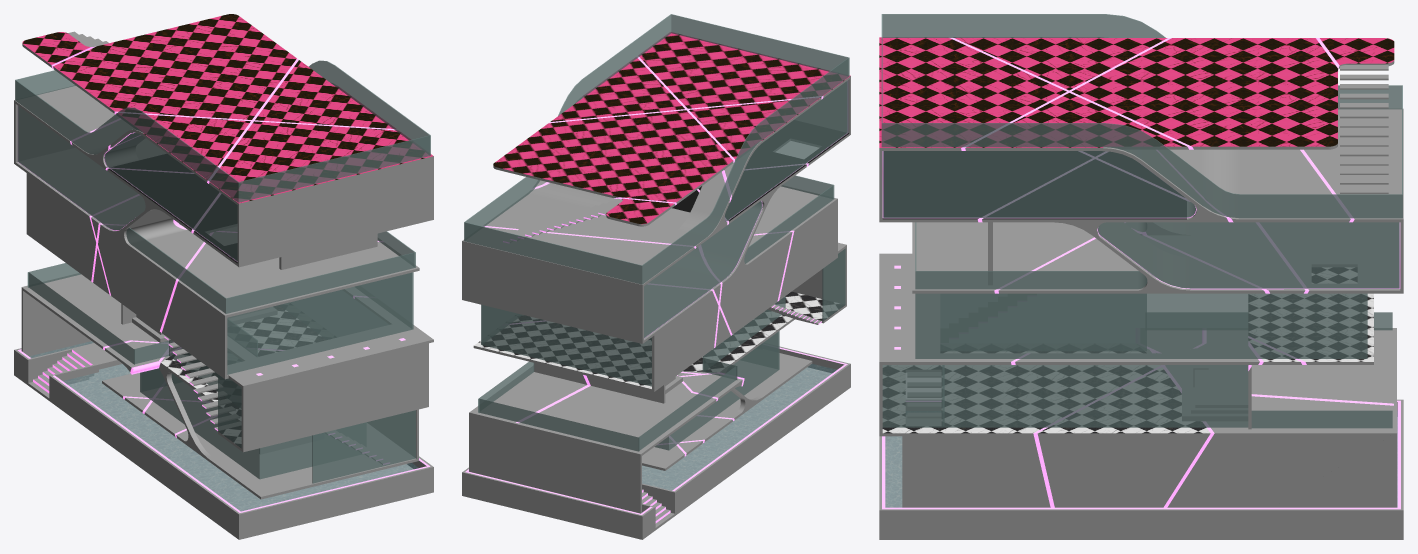
Rendered from building.glb.
3 views of the same model, side by side, from view 1: azimuth 30°, elevation 25°; view 2: azimuth 150°, elevation 25°; view 3: azimuth 270°, elevation 25° (orthographic). The views are drawn at different scales.
Parts seen in each view (by area): view 1: building, Cube.027; view 2: building, Cube.027; view 3: building, Cube.027.
Part boxes in pixels (x1,y1,x2,y2): building: (14,14,433,539); Cube.027: (21,273,85,351); building: (462,14,850,539); Cube.027: (469,374,641,513); building: (879,14,1403,539); Cube.027: (1265,328,1396,507).
Size of what is drawn, in the model's own units: 15.77 by 27.59 by 31.54.
11 materials, 4 textured.
